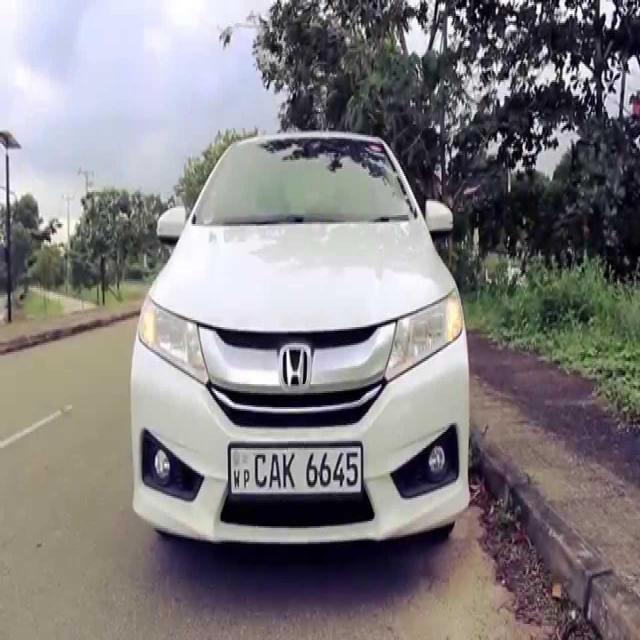license-plate: (230, 446, 362, 494)
